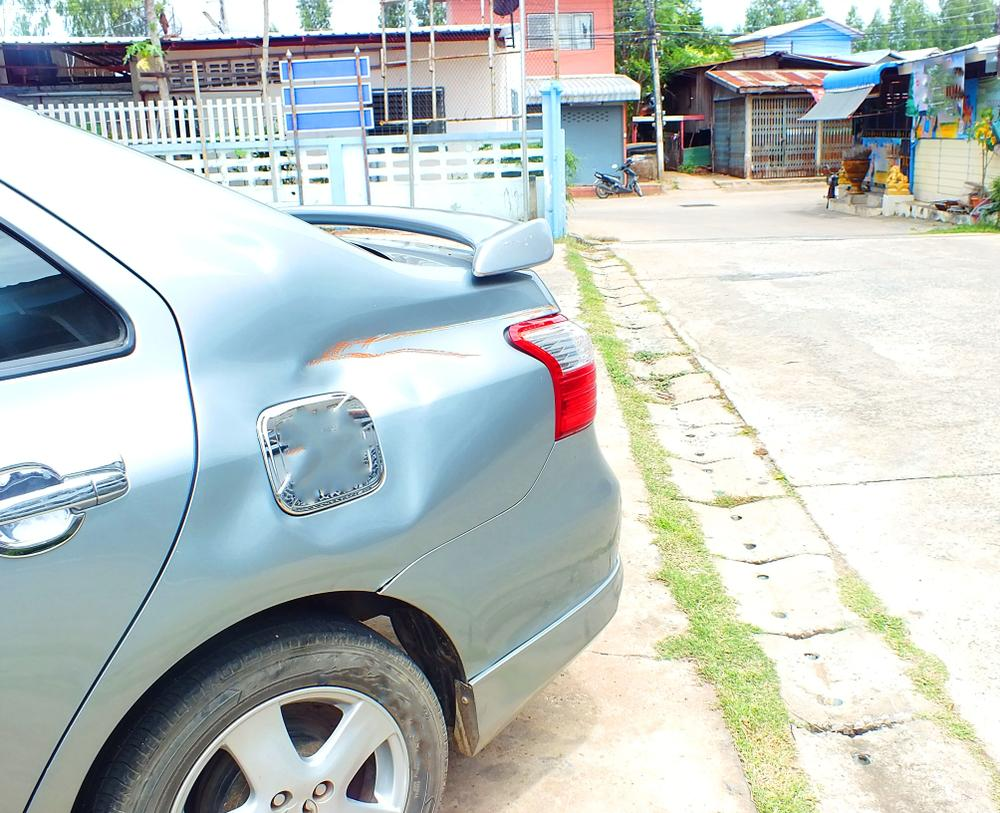dent: (186, 285, 427, 570)
scratch: (405, 302, 556, 360)
